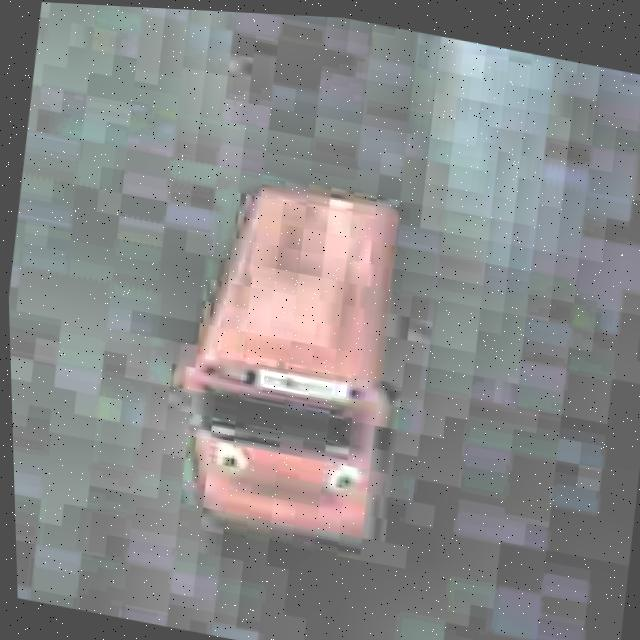bus: (137, 147, 439, 570)
